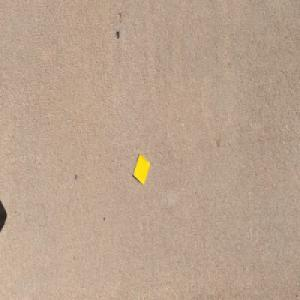PlasticPart: (132, 152, 150, 186)
